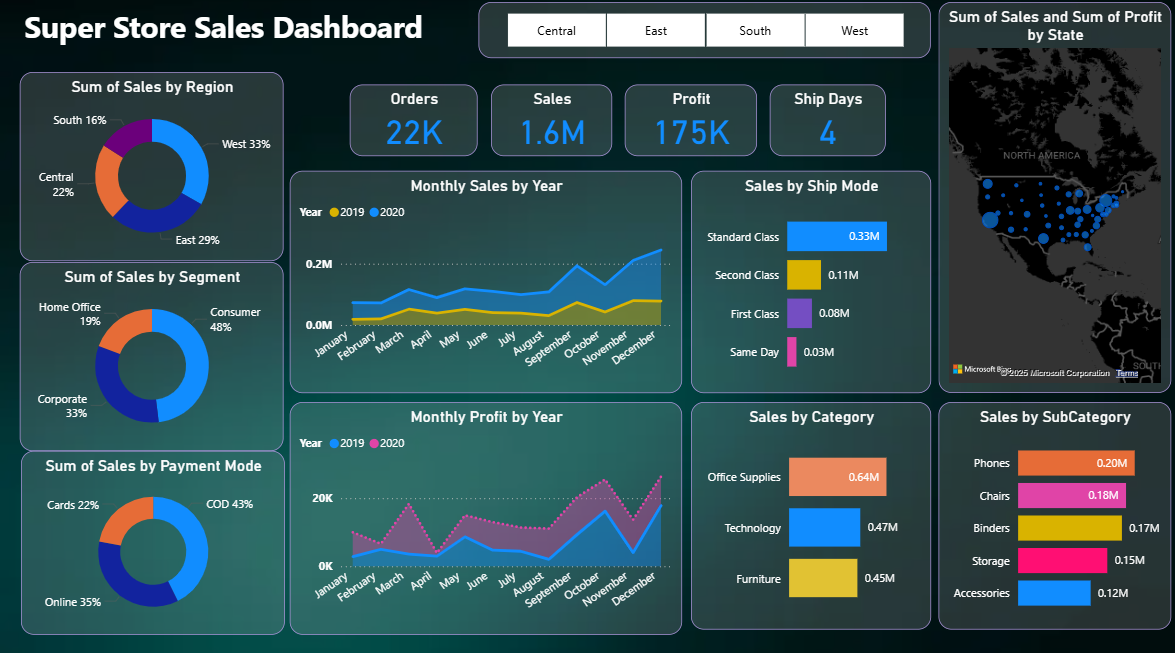

Layout of this report page (visuals, bound fields, positions):
{"tool":"powerbi","page":{"name":"First Analyze","canvas":[1280,720],"ordinal":0},"visuals":[{"type":"clusteredBarChart","title":"Sales by Category","fields":{"Category":["SuperStore_Sales_Dataset.Category"],"Y":["Sum(SuperStore_Sales_Dataset.Sales)"]},"box":[752.5,443.9,259.8,246.3],"z":0},{"type":"clusteredBarChart","title":"Sales by SubCategory","fields":{"Category":["SuperStore_Sales_Dataset.Sub-Category"],"Y":["Sum(SuperStore_Sales_Dataset.Sales)"]},"box":[1020.4,443.9,251.7,246.3],"z":1000},{"type":"clusteredBarChart","title":"Sales by Ship Mode","fields":{"Category":["SuperStore_Sales_Dataset.Ship Mode"],"Y":["Sum(SuperStore_Sales_Dataset.Sales)"]},"box":[752.5,193.5,259.8,240.9],"z":2000},{"type":"stackedAreaChart","title":"Monthly Sales by Year","fields":{"Category":["SuperStore_Sales_Dataset.Order Date.Variation.Date Hierarchy.Month","SuperStore_Sales_Dataset.Order Date.Variation.Date Hierarchy.Day"],"Y":["Sum(SuperStore_Sales_Dataset.Sales)"],"Series":["SuperStore_Sales_Dataset.Order Date.Variation.Date Hierarchy.Year"]},"box":[318,193.5,425,240.9],"z":3000},{"type":"stackedAreaChart","title":"Monthly Profit by Year","fields":{"Category":["SuperStore_Sales_Dataset.Order Date.Variation.Date Hierarchy.Month","SuperStore_Sales_Dataset.Order Date.Variation.Date Hierarchy.Day"],"Series":["SuperStore_Sales_Dataset.Order Date.Variation.Date Hierarchy.Year"],"Y":["Sum(SuperStore_Sales_Dataset.Profit)"]},"box":[318,443.9,425,251.7],"z":4000},{"type":"map","fields":{"Category":["SuperStore_Sales_Dataset.State"],"Size":["Sum(SuperStore_Sales_Dataset.Sales)"]},"box":[1020.6,10.9,252.1,423.5],"z":5000},{"type":"donutChart","fields":{"Category":["SuperStore_Sales_Dataset.Segment"],"Y":["Sum(SuperStore_Sales_Dataset.Sales)"]},"box":[25.3,292,285.9,205.1],"z":6000},{"type":"donutChart","fields":{"Category":["SuperStore_Sales_Dataset.Payment Mode"],"Y":["Sum(SuperStore_Sales_Dataset.Sales)"]},"box":[26.5,497.1,285.9,199.1],"z":7000},{"type":"slicer","fields":{"Values":["SuperStore_Sales_Dataset.Region"]},"box":[522.4,10.8,489.9,60.9],"z":8000},{"type":"textbox","box":[25.3,10.9,480.2,76],"z":9000},{"type":"card","title":"Sales","fields":{"Values":["Sum(SuperStore_Sales_Dataset.Sales)"]},"box":[535.7,100.1,131.5,77.2],"z":10000},{"type":"card","title":"Orders","fields":{"Values":["Sum(SuperStore_Sales_Dataset.Quantity)"]},"box":[382.4,100.1,138.7,77.2],"z":11000},{"type":"card","title":"Profit","fields":{"Values":["Sum(SuperStore_Sales_Dataset.Profit)"]},"box":[680.4,100.1,143.6,77.2],"z":12000},{"type":"card","title":"Ship Days","fields":{"Values":["Avg(SuperStore_Sales_Dataset.AvgDelivery)"]},"box":[837.3,100.1,125.5,77.2],"z":13000},{"type":"donutChart","fields":{"Category":["SuperStore_Sales_Dataset.Region"],"Y":["Sum(SuperStore_Sales_Dataset.Sales)"]},"box":[25.3,86.9,285.9,205.1],"z":14000}]}

Visuals, with their boxes in screenshot pixels (x1, y1, x2, y2), scaled from the page's 1280x720 canvas onto the 1175x653 screenshot:
"Sales by Category" clusteredBarChart: bbox(691, 403, 929, 626)
"Sales by SubCategory" clusteredBarChart: bbox(937, 403, 1168, 626)
"Sales by Ship Mode" clusteredBarChart: bbox(691, 175, 929, 394)
"Monthly Sales by Year" stackedAreaChart: bbox(292, 175, 682, 394)
"Monthly Profit by Year" stackedAreaChart: bbox(292, 403, 682, 631)
map - SuperStore_Sales_Dataset.State x Sum(SuperStore_Sales_Dataset.Sales): bbox(937, 10, 1168, 394)
donutChart - SuperStore_Sales_Dataset.Segment x Sum(SuperStore_Sales_Dataset.Sales): bbox(23, 265, 286, 451)
donutChart - SuperStore_Sales_Dataset.Payment Mode x Sum(SuperStore_Sales_Dataset.Sales): bbox(24, 451, 287, 631)
slicer - SuperStore_Sales_Dataset.Region: bbox(480, 10, 929, 65)
textbox: bbox(23, 10, 464, 79)
"Sales" card: bbox(492, 91, 612, 161)
"Orders" card: bbox(351, 91, 478, 161)
"Profit" card: bbox(625, 91, 756, 161)
"Ship Days" card: bbox(769, 91, 884, 161)
donutChart - SuperStore_Sales_Dataset.Region x Sum(SuperStore_Sales_Dataset.Sales): bbox(23, 79, 286, 265)
